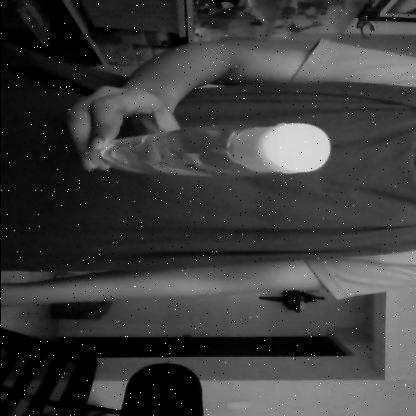Plastic Bottle: (79, 119, 336, 180)
